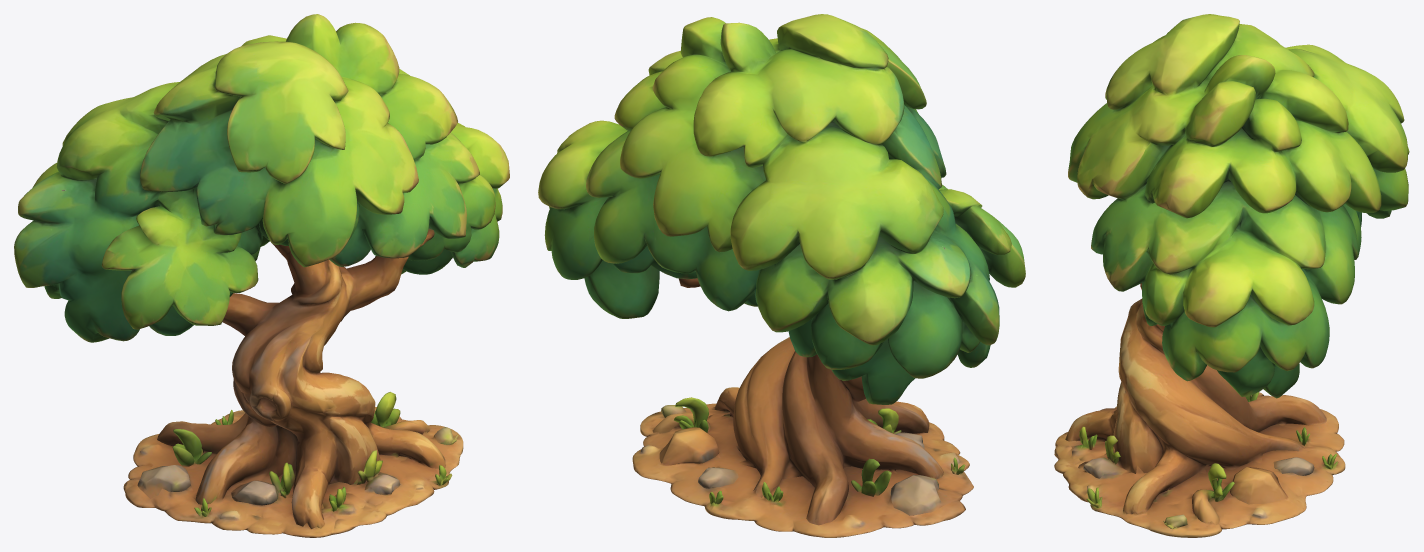
Rendered from tree_twisted.glb.
The picture shows the model from 3 angles, left to right: view 1: azimuth 30°, elevation 25°; view 2: azimuth 150°, elevation 25°; view 3: azimuth 270°, elevation 25°; orthographic projection. The views are drawn at different scales.
Parts seen in each view (by area): view 1: tripo_part_0, tripo_part_1, tripo_part_2, tripo_part_4, tripo_part_3, tripo_part_11, tripo_part_5, tripo_part_18; view 2: tripo_part_0, tripo_part_1, tripo_part_2, tripo_part_4, tripo_part_7, tripo_part_3, tripo_part_5, tripo_part_16; view 3: tripo_part_0, tripo_part_1, tripo_part_2, tripo_part_7, tripo_part_8, tripo_part_18, tripo_part_16, tripo_part_5.
Boxes of the visible parts, x1=… form: tripo_part_0: x1=14, y1=14, x2=509, y2=342; tripo_part_1: x1=157, y1=228, x2=445, y2=528; tripo_part_2: x1=123, y1=406, x2=463, y2=537; tripo_part_4: x1=137, y1=465, x2=192, y2=498; tripo_part_3: x1=172, y1=429, x2=211, y2=466; tripo_part_11: x1=231, y1=480, x2=277, y2=505; tripo_part_5: x1=371, y1=392, x2=400, y2=426; tripo_part_18: x1=364, y1=472, x2=400, y2=497; tripo_part_0: x1=538, y1=14, x2=1025, y2=404; tripo_part_1: x1=662, y1=272, x2=943, y2=525; tripo_part_2: x1=632, y1=403, x2=973, y2=537; tripo_part_4: x1=891, y1=475, x2=951, y2=515; tripo_part_7: x1=659, y1=427, x2=719, y2=465; tripo_part_3: x1=851, y1=458, x2=891, y2=496; tripo_part_5: x1=674, y1=397, x2=708, y2=432; tripo_part_16: x1=698, y1=467, x2=738, y2=488; tripo_part_0: x1=1068, y1=14, x2=1409, y2=398; tripo_part_1: x1=1065, y1=283, x2=1326, y2=515; tripo_part_2: x1=1054, y1=392, x2=1345, y2=537; tripo_part_7: x1=1230, y1=467, x2=1286, y2=504; tripo_part_8: x1=1192, y1=489, x2=1219, y2=524; tripo_part_18: x1=1082, y1=456, x2=1125, y2=478; tripo_part_16: x1=1273, y1=457, x2=1314, y2=475; tripo_part_5: x1=1208, y1=463, x2=1234, y2=501.
Bounding box in the file's own units: 0.9791 × 0.8917 × 0.6652.
Materials: 1 (1 with a texture image).
